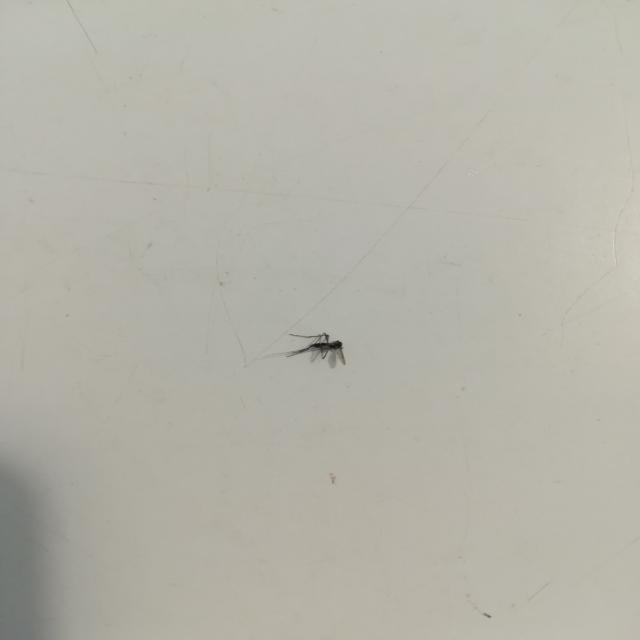albopictus: (256, 325, 353, 371)
